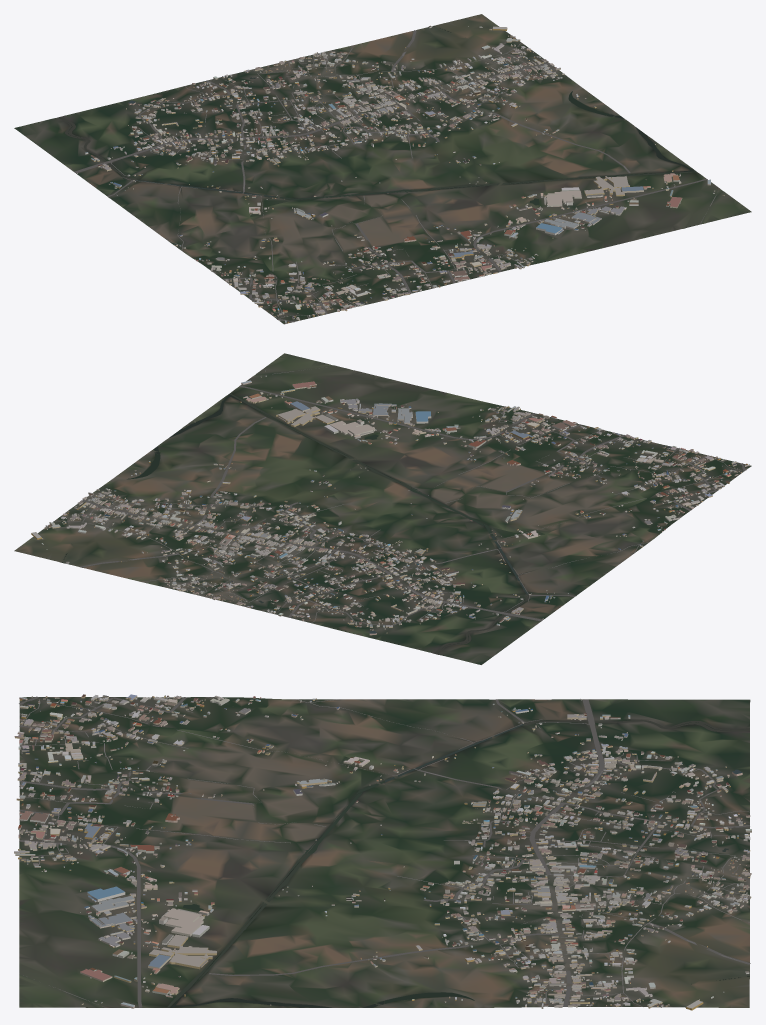
3 views of the same model, one above another, from view 1: azimuth 30°, elevation 25°; view 2: azimuth 150°, elevation 25°; view 3: azimuth 270°, elevation 25° (orthographic). The views are drawn at different scales.
Visible parts, largest first — view 1: ground, buildings, roads, water; view 2: ground, buildings, roads, water; view 3: ground, buildings, roads, water.
Boxes of the visible parts, x1,y1,x2,y2 form: ground: (14, 14, 751, 324); buildings: (77, 25, 724, 323); roads: (74, 30, 716, 322); water: (57, 25, 696, 264); ground: (14, 353, 751, 664); buildings: (31, 370, 749, 635); roads: (53, 367, 746, 625); water: (62, 393, 660, 654); ground: (19, 697, 750, 1007); buildings: (14, 694, 751, 1010); roads: (19, 696, 750, 1007); water: (167, 706, 749, 1007).
Bounding box in the file's own units: 2837 × 24.07 × 2830.
